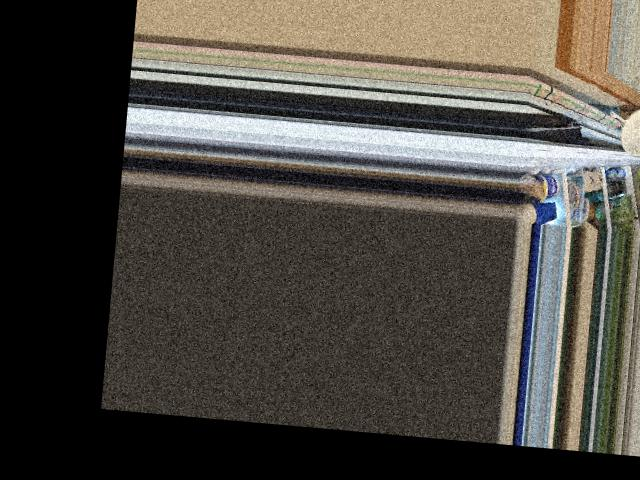cotage: (620, 111, 640, 157)
